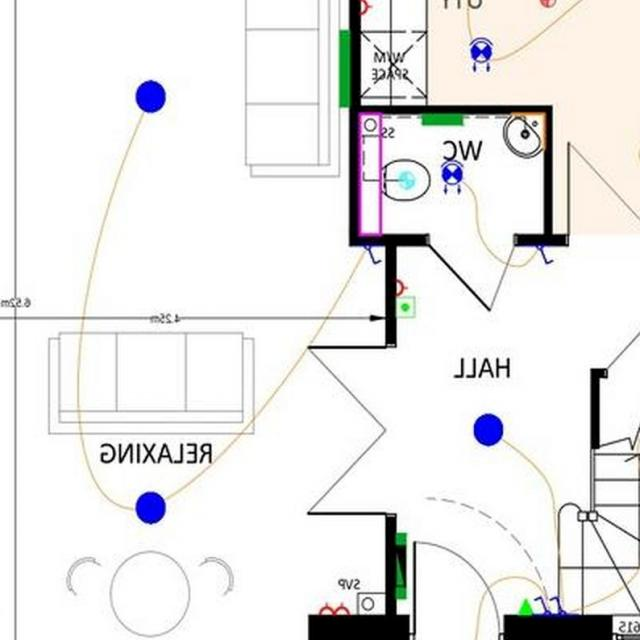BT Entry Point: (520, 597, 536, 615)
Ceiling Mounted Continuous Extract FanWith Boost Mode Activated By Light Switch: (401, 172, 416, 187)
Ceiling Mounted Continuous Extract FanWith Local Boost Switch: (542, 0, 557, 6)
Consumer Unit: (396, 544, 407, 587)
Double Socket: (320, 602, 351, 614)
Light Switch: (365, 245, 382, 264), (537, 245, 554, 263), (551, 596, 567, 613), (536, 595, 552, 612)
Low Energy Downlighter: (470, 36, 494, 71), (442, 160, 465, 193)
Low Energy Pendant Light: (136, 492, 166, 524), (474, 413, 504, 445), (136, 80, 166, 111)
Programmable Room Thermostat: (397, 295, 416, 318)
Radiator: (340, 30, 351, 107), (395, 531, 407, 599), (422, 114, 464, 125)
Single Socket: (360, 0, 374, 14), (396, 279, 408, 295)
